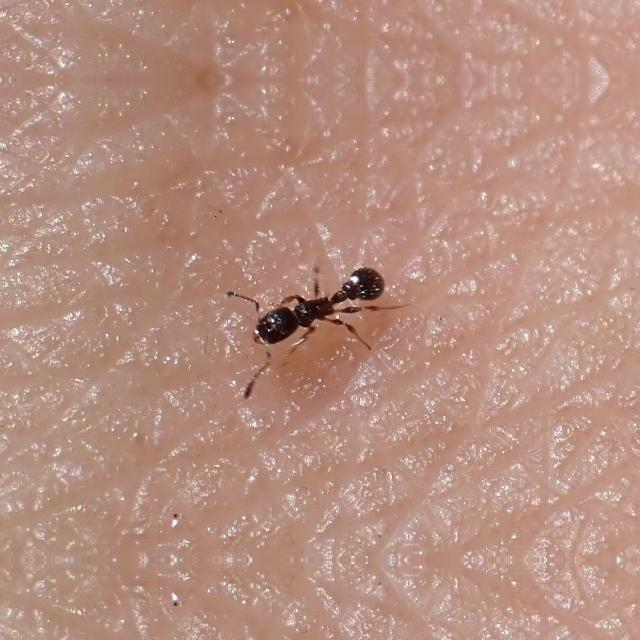Temnothorax: (222, 247, 408, 359)
